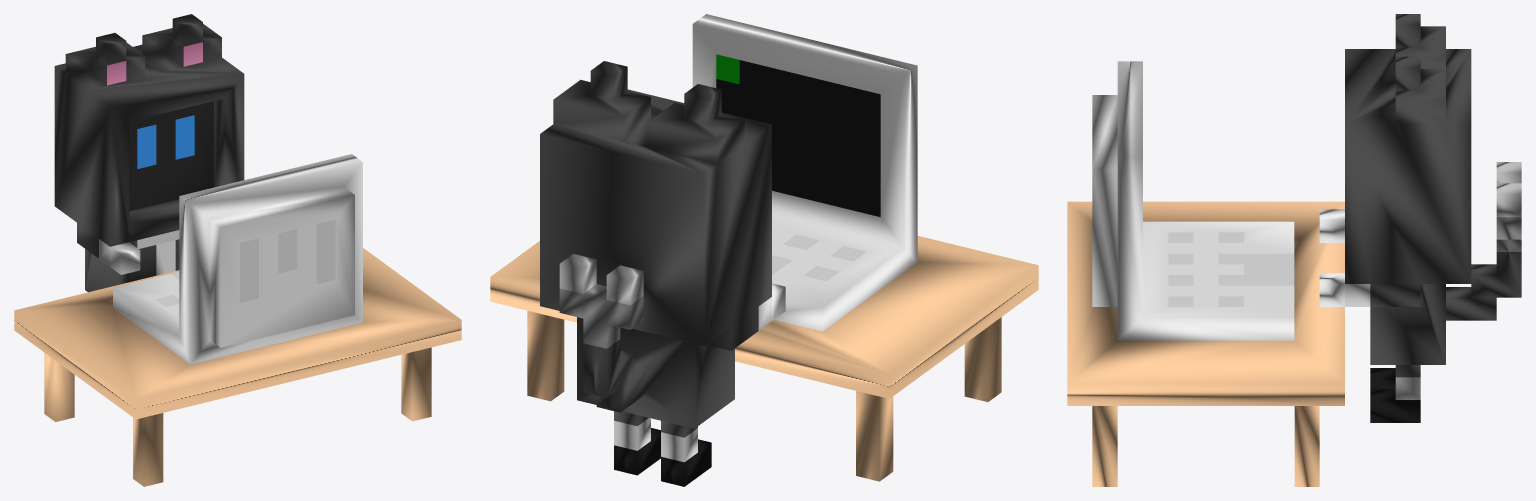
File: nightcat.gltf
3 renders of one model, left to right at view 1: azimuth 30°, elevation 25°; view 2: azimuth 150°, elevation 25°; view 3: azimuth 270°, elevation 25°, orthographic. The views are drawn at different scales.
Visible parts, largest first — view 1: voxel-nightcat; view 2: voxel-nightcat; view 3: voxel-nightcat.
Boxes of the visible parts, left/top/right/bottom form: voxel-nightcat: left=14, top=14, right=461, bottom=486; voxel-nightcat: left=490, top=14, right=1038, bottom=486; voxel-nightcat: left=1067, top=14, right=1521, bottom=486.
Bounding box in the file's own units: 1.7 × 1.6 × 1.8.
Materials: 1 (1 with a texture image).
